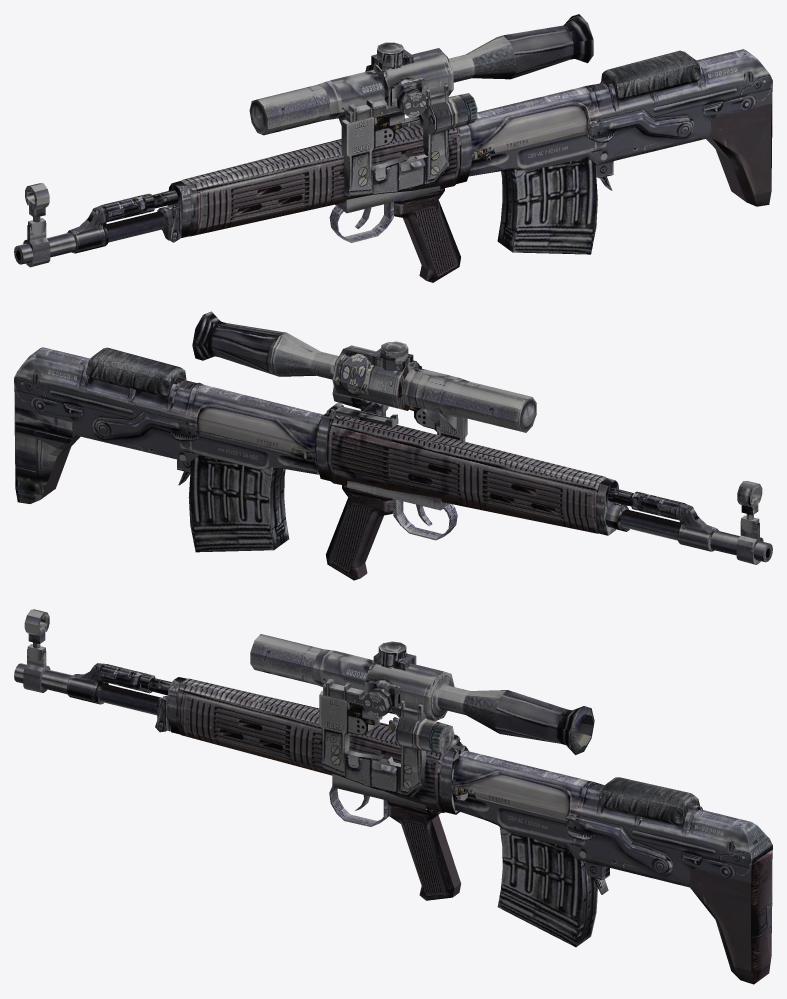
Rendered from w_svu.obj.
The picture shows the model from 3 angles, top to bottom: view 1: azimuth 30°, elevation 25°; view 2: azimuth 150°, elevation 25°; view 3: azimuth 330°, elevation 25°; orthographic projection.
Visible parts, largest first — view 1: Svu; view 2: Svu; view 3: Svu.
Part boxes in pixels (box(x1,y1,x2,y2)): Svu: box(14, 14, 772, 282); Svu: box(14, 311, 772, 580); Svu: box(14, 609, 772, 984).
Bounding box in the file's own units: 11.24 × 3.56 × 0.8738.
